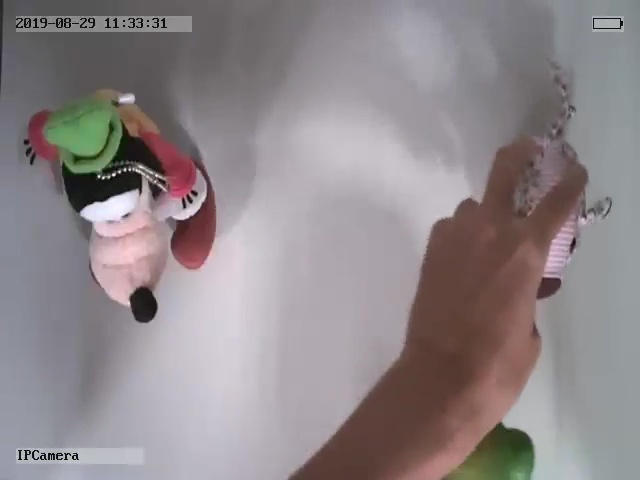goofy: (22, 84, 218, 322)
